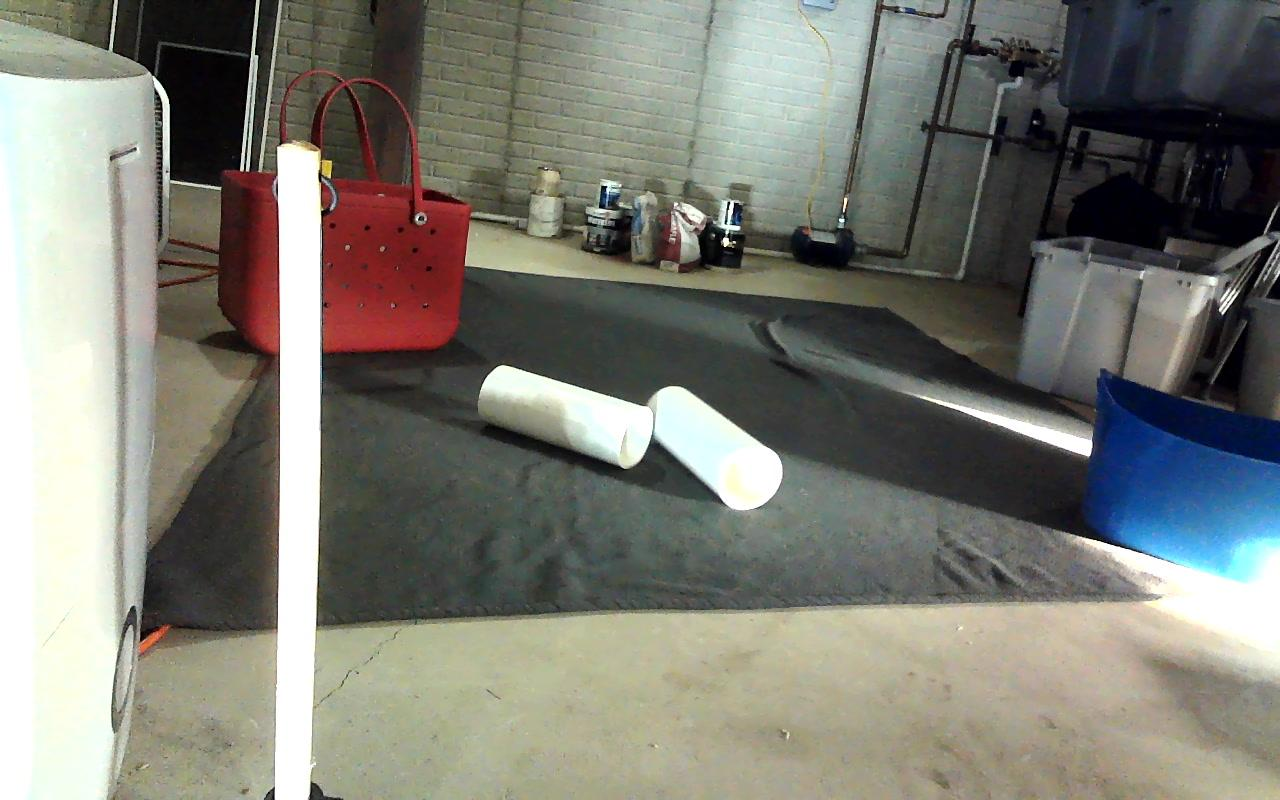coral: (478, 365, 654, 468), (651, 384, 782, 509)
